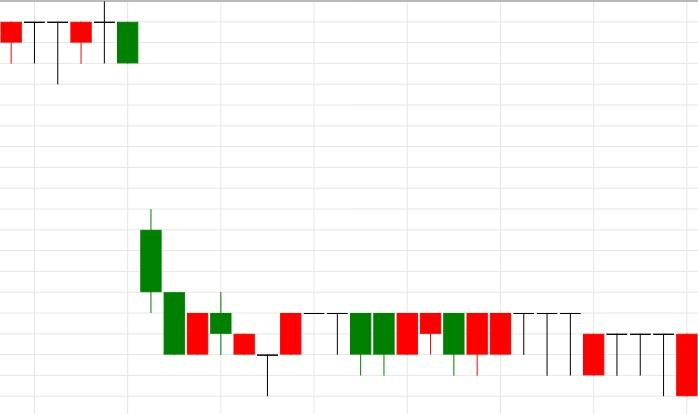bearish_engulfing_fall: (256, 312, 466, 397)
evening_star_fall: (0, 0, 138, 85)
